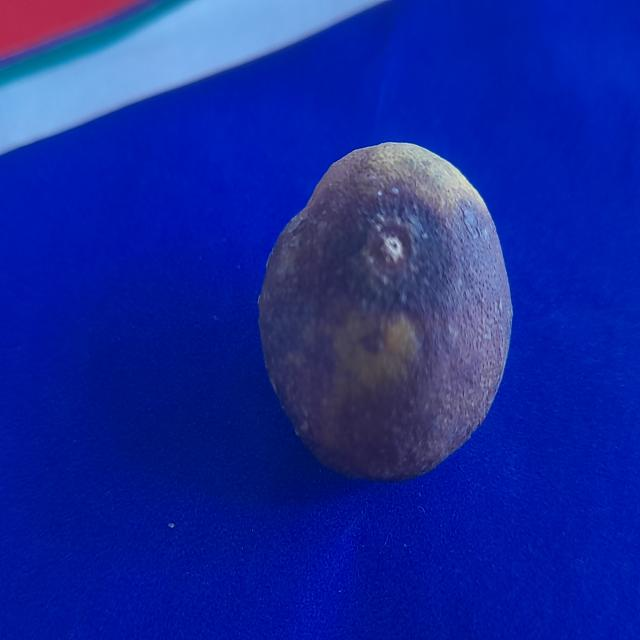black spot: (241, 121, 536, 520)
